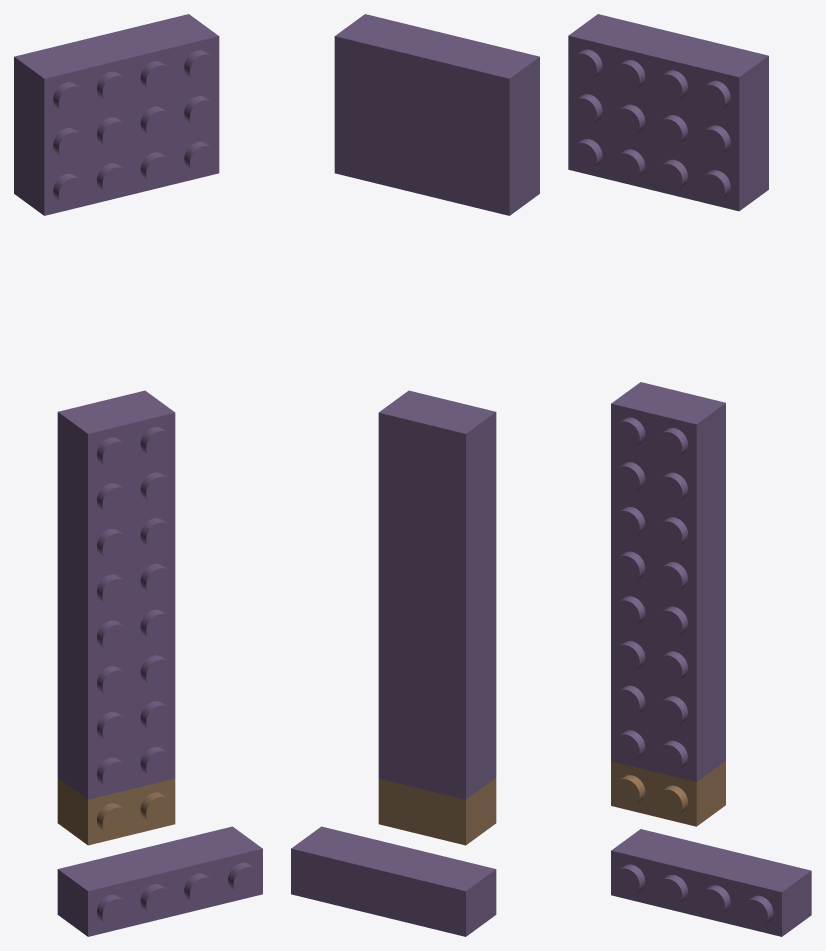
File: current.glb
3 views of the same model, side by side, from view 1: azimuth 30°, elevation 25°; view 2: azimuth 150°, elevation 25°; view 3: azimuth 330°, elevation 25° (orthographic). The views are drawn at different scales.
Parts seen in each view (by area): view 1: world; view 2: world; view 3: world.
Boxes of the visible parts, left/top/right/bottom form: world: left=14, top=14, right=262, bottom=936; world: left=291, top=14, right=539, bottom=936; world: left=568, top=14, right=811, bottom=936.
Size of the model in its own units: 40 by 152 by 11.4.
